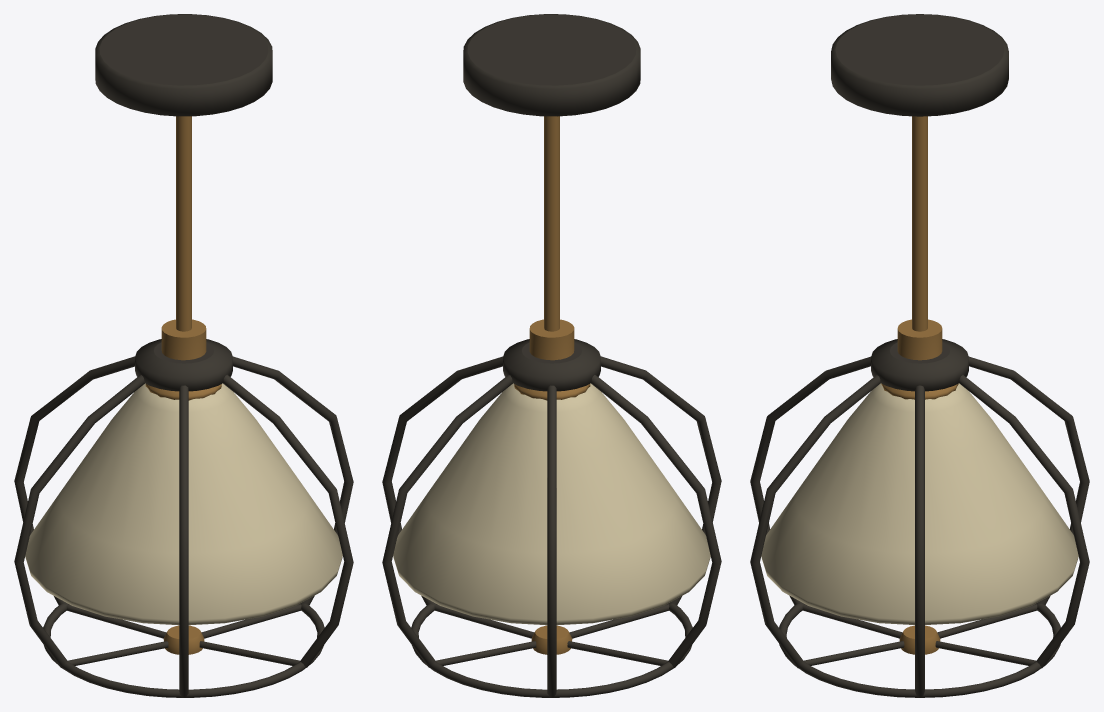
The model's file is rpg-mansion-caged-workshop-pendant-01.glb.
The picture shows the model from 3 angles, left to right: view 1: azimuth 30°, elevation 25°; view 2: azimuth 150°, elevation 25°; view 3: azimuth 270°, elevation 25°; orthographic projection.
Parts seen in each view (by area): view 1: rpg-mansion-caged-workshop-pendant-01; view 2: rpg-mansion-caged-workshop-pendant-01; view 3: rpg-mansion-caged-workshop-pendant-01.
Boxes of the visible parts, x1,y1,x2,y2 form: rpg-mansion-caged-workshop-pendant-01: (14, 14, 353, 697); rpg-mansion-caged-workshop-pendant-01: (382, 14, 721, 697); rpg-mansion-caged-workshop-pendant-01: (750, 14, 1089, 697).
Bounding box in the file's own units: 0.439 × 0.74 × 0.3817.
